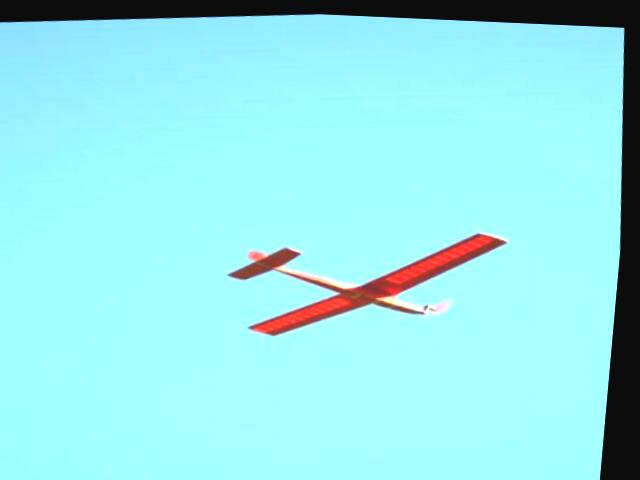iha: (219, 206, 530, 352)
